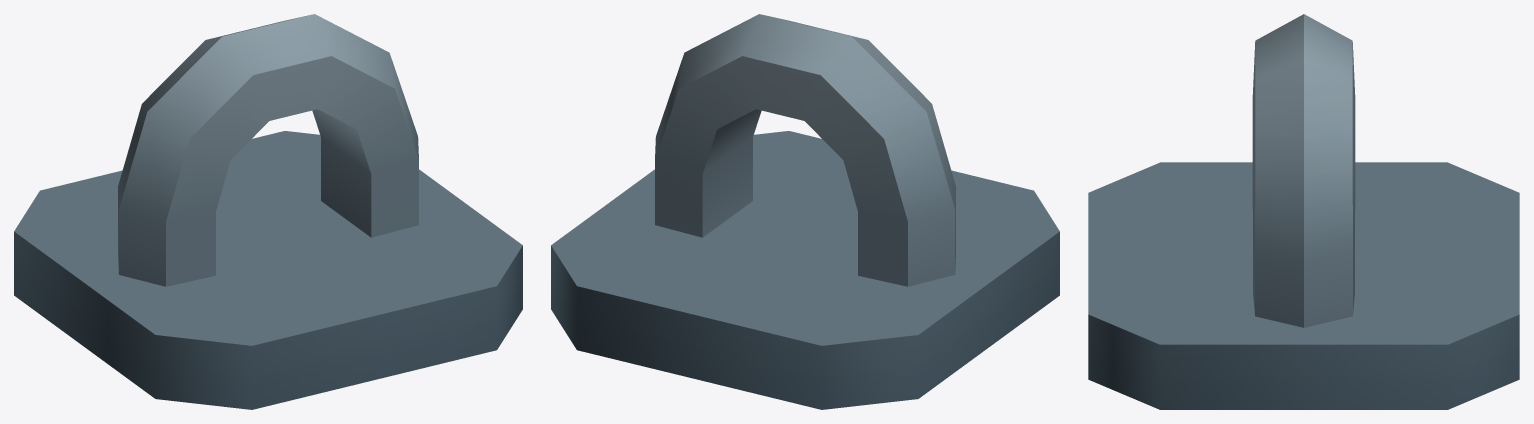
The model's file is chain_anchor.fbx.
3 views of the same model, side by side, from view 1: azimuth 30°, elevation 25°; view 2: azimuth 150°, elevation 25°; view 3: azimuth 270°, elevation 25° (orthographic).
Parts seen in each view (by area): view 1: chain_anchor; view 2: chain_anchor; view 3: chain_anchor.
Part boxes in pixels (box(x1,y1,x2,y2)): chain_anchor: box(14, 14, 522, 409); chain_anchor: box(551, 14, 1059, 409); chain_anchor: box(1088, 14, 1519, 409).
Bounding box in the file's own units: 30 × 21.62 × 30.
